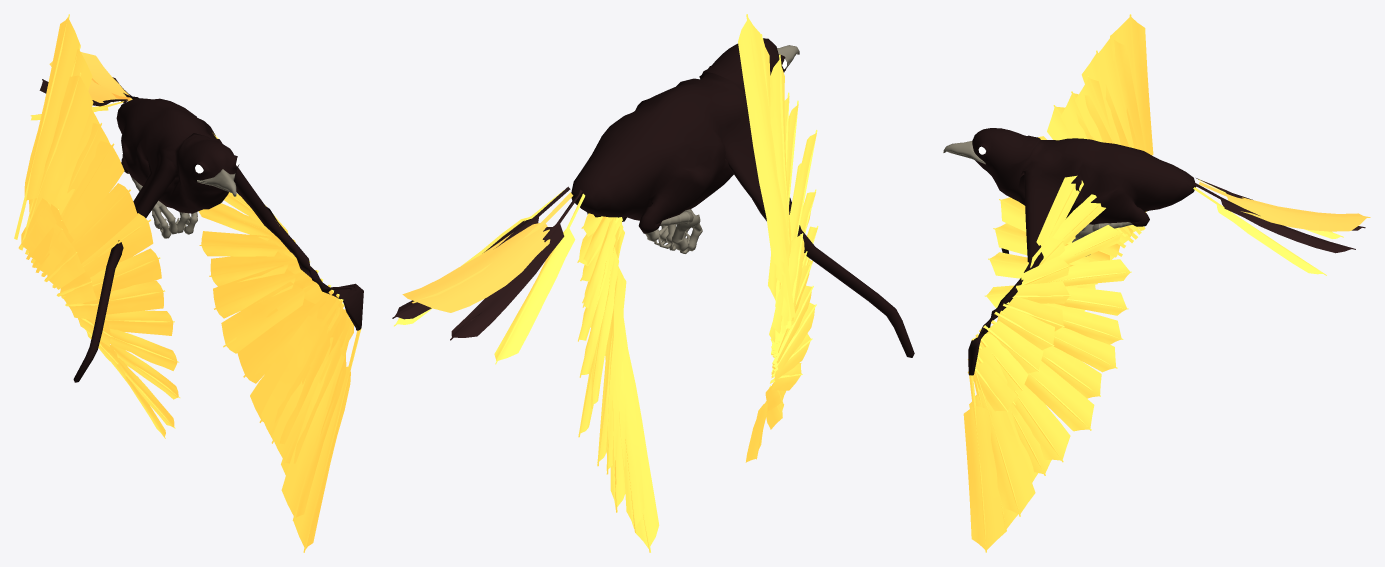
Rendered from raven-web.glb.
The picture shows the model from 3 angles, left to right: view 1: azimuth 30°, elevation 25°; view 2: azimuth 150°, elevation 25°; view 3: azimuth 270°, elevation 25°; orthographic projection. The views are drawn at different scales.
Visible parts, largest first — view 1: Plane_030Shape_7, Plane_029Shape_7, BirdShape_7, Plane_007Shape_7, Plane_024Shape_7; view 2: BirdShape_7, Plane_030Shape_7, Plane_029Shape_7, Plane_024Shape_7, Plane_025Shape_7, Plane_033Shape_7, Plane_007Shape_7, Plane_034Shape_7; view 3: Plane_029Shape_7, BirdShape_7, Plane_030Shape_7, Plane_024Shape_7, Plane_034Shape_7, Plane_027Shape_7, Plane_007Shape_7.
Boxes of the visible parts, left/top/right/bottom form: Plane_030Shape_7: left=14, top=14, right=180, bottom=438; Plane_029Shape_7: left=198, top=133, right=361, bottom=552; BirdShape_7: left=73, top=98, right=363, bottom=382; Plane_007Shape_7: left=128, top=169, right=236, bottom=238; Plane_024Shape_7: left=49, top=52, right=132, bottom=102; BirdShape_7: left=571, top=38, right=914, bottom=357; Plane_030Shape_7: left=738, top=14, right=818, bottom=462; Plane_029Shape_7: left=577, top=213, right=659, bottom=552; Plane_024Shape_7: left=402, top=192, right=573, bottom=312; Plane_025Shape_7: left=494, top=193, right=585, bottom=364; Plane_033Shape_7: left=450, top=190, right=582, bottom=340; Plane_007Shape_7: left=645, top=45, right=799, bottom=253; Plane_034Shape_7: left=392, top=186, right=570, bottom=319; Plane_029Shape_7: left=963, top=175, right=1131, bottom=552; BirdShape_7: left=968, top=128, right=1196, bottom=375; Plane_030Shape_7: left=985, top=14, right=1153, bottom=310; Plane_024Shape_7: left=1199, top=182, right=1370, bottom=231; Plane_034Shape_7: left=1193, top=183, right=1355, bottom=253; Plane_027Shape_7: left=1193, top=187, right=1326, bottom=275; Plane_007Shape_7: left=943, top=141, right=1132, bottom=256.
Size of the model in its own units: 1.86 by 3.38 by 2.79.
